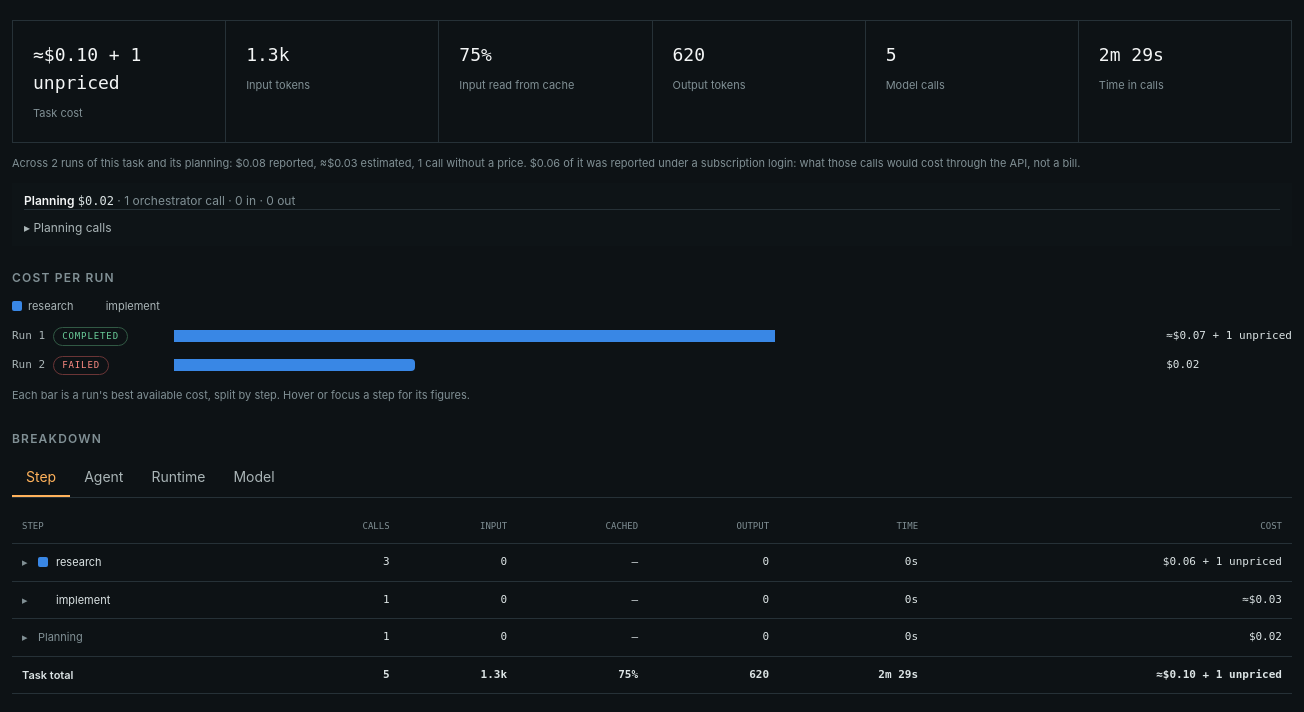
Scenario: CostTab › shows the task's totals and planning apart from its runs, with each figure's markers
Check: the text "≈$0.10 + 1 unpriced" is shown, box x1=33 y1=44 x2=141 y2=93
Check: the text "75%" is shown, box x1=459 y1=44 x2=492 y2=65
Focus the picture named "research: $0.02". click: {"x": 295, "y": 365}
box: x1=174 y1=359 x2=415 y2=371
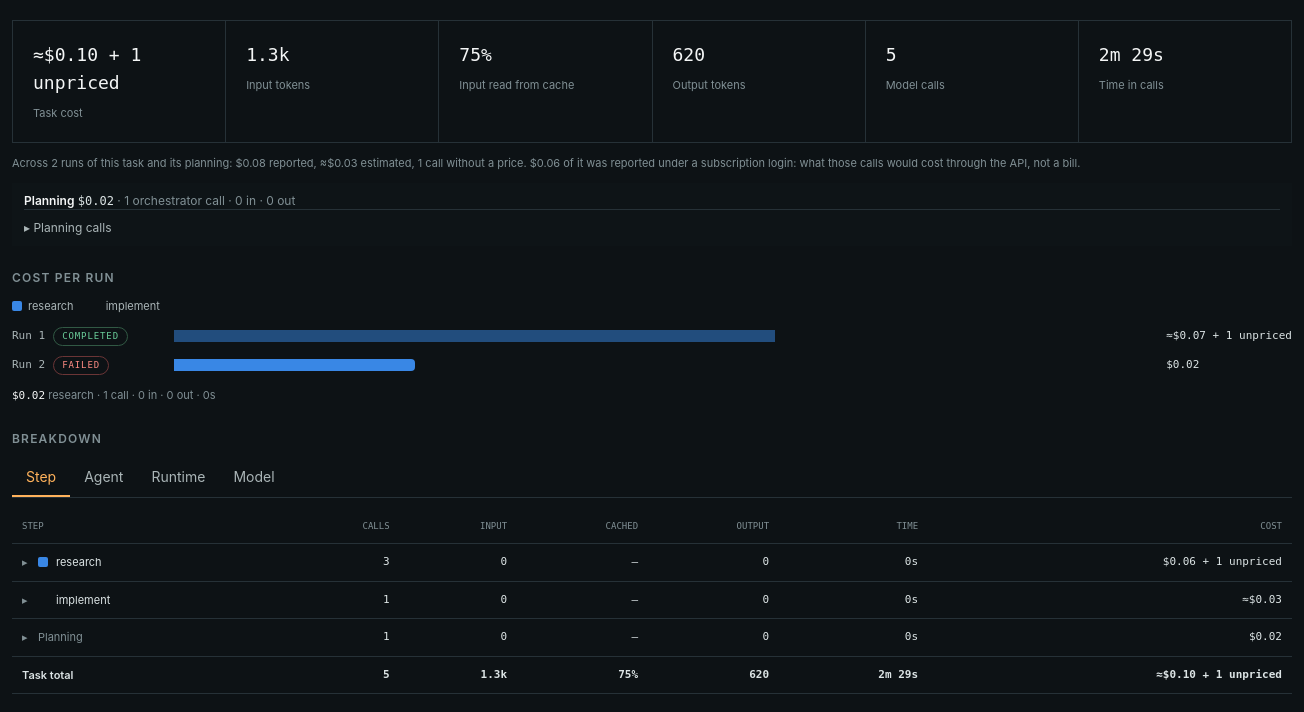
Check: the text "$0.02 research · 1 call · 0 in · 0 out · 0s" is shown, box x1=12 y1=388 x2=216 y2=402
